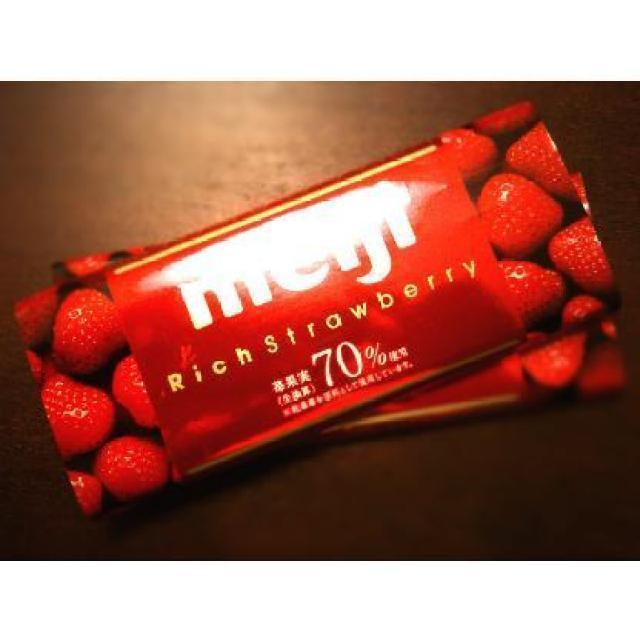Strawberry: (39, 374, 124, 460), (500, 120, 578, 212), (44, 290, 116, 375), (541, 210, 607, 298), (97, 437, 174, 511), (519, 326, 592, 397), (101, 353, 157, 435), (502, 257, 560, 328), (439, 124, 496, 196), (1, 290, 51, 356), (57, 461, 109, 514), (470, 98, 532, 140), (557, 292, 600, 336), (23, 348, 62, 381)
